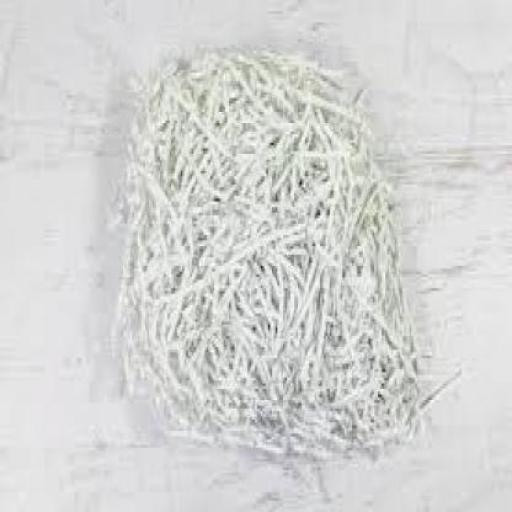paper: (116, 38, 421, 454)
